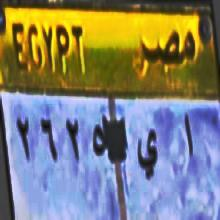2: (64, 111, 84, 169), (15, 114, 32, 163)
5: (90, 121, 106, 167)
6: (39, 111, 58, 178)
alif: (178, 107, 196, 168)
yaa: (135, 123, 160, 186)
